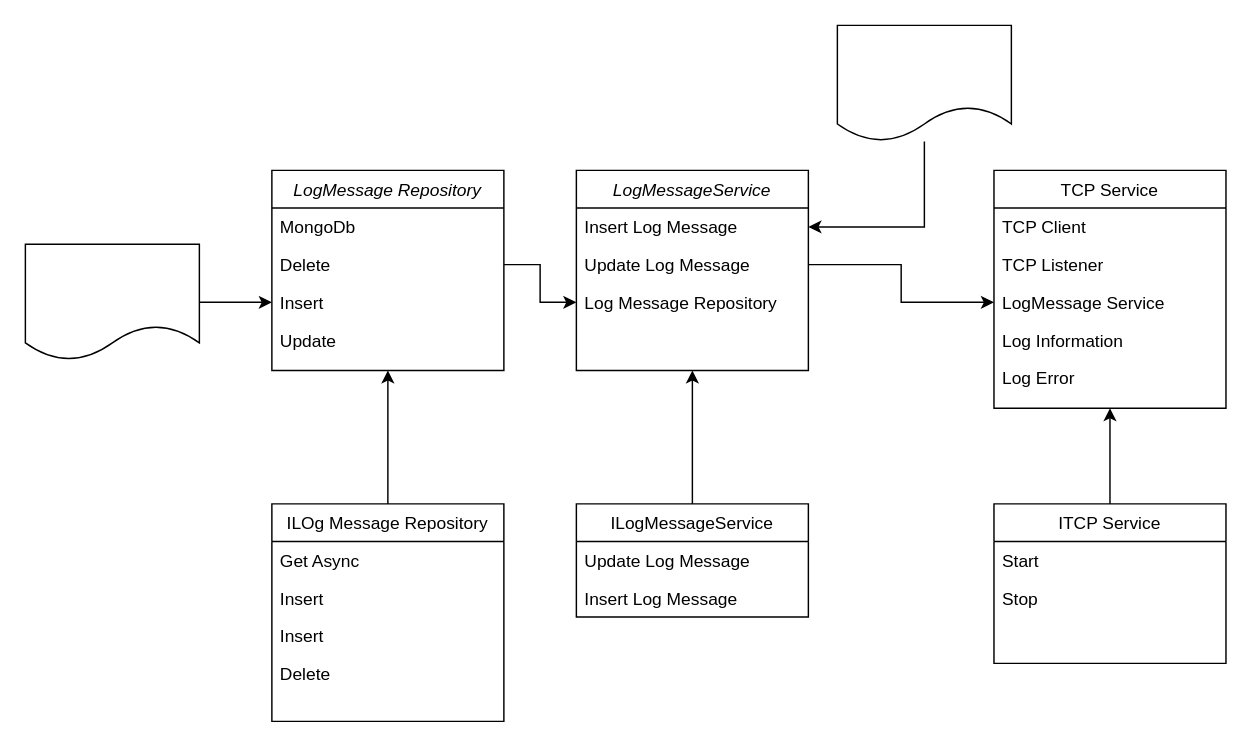
The diagram is 1251 pixels wide and 747 high, and some of its shapes have lost their labels. Each missing label, with the centre of its shape:
Log Message Model: the point at 923,82
LogMessage Entity: the point at 111,301
